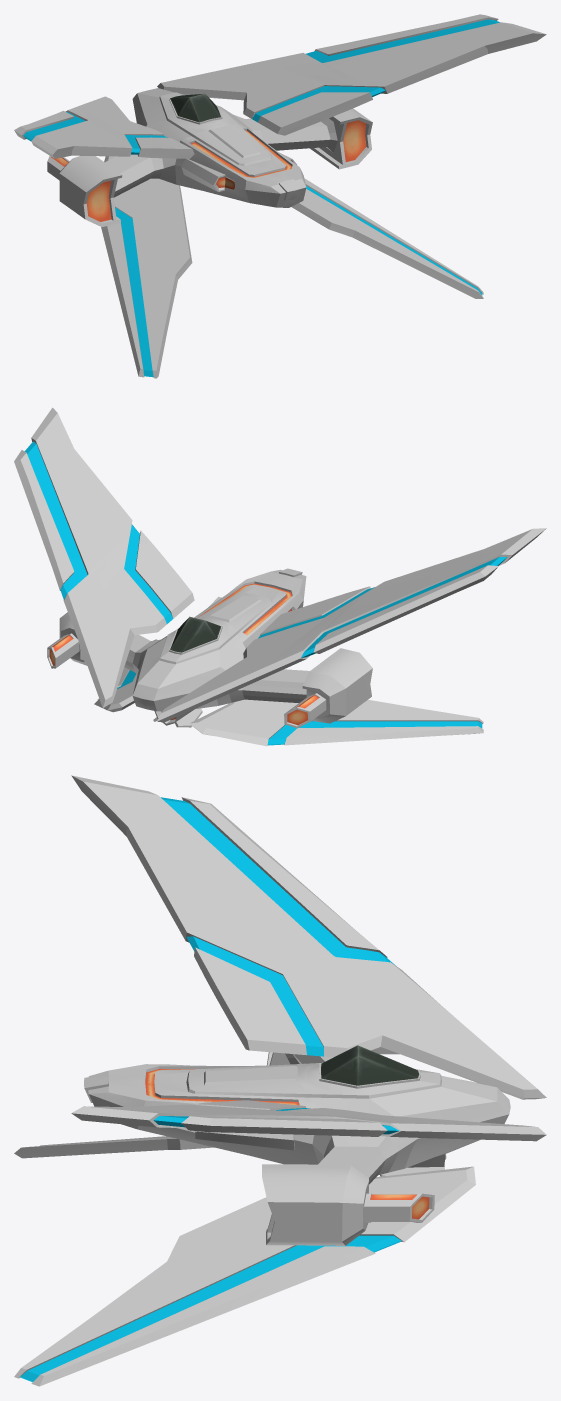
3 views of the same model, one above another, from view 1: azimuth 30°, elevation 25°; view 2: azimuth 150°, elevation 25°; view 3: azimuth 270°, elevation 25° (orthographic). The views are drawn at different scales.
Parts seen in each view (by area): view 1: Wing Top, Plane Body, Wing Bot; view 2: Wing Top, Plane Body, Wing Bot; view 3: Wing Top, Plane Body, Wing Bot.
Boxes of the visible parts, left/top/right/bottom form: Wing Top: left=14, top=14, right=546, bottom=158; Plane Body: left=47, top=88, right=372, bottom=226; Wing Bot: left=101, top=156, right=483, bottom=378; Wing Top: left=14, top=407, right=546, bottom=722; Plane Body: left=47, top=568, right=372, bottom=728; Wing Bot: left=94, top=639, right=483, bottom=746; Wing Top: left=71, top=775, right=546, bottom=1141; Plane Body: left=84, top=1045, right=510, bottom=1245; Wing Bot: left=14, top=1136, right=475, bottom=1386.
Size of the model in its own units: 1.54 by 0.6914 by 1.03.
